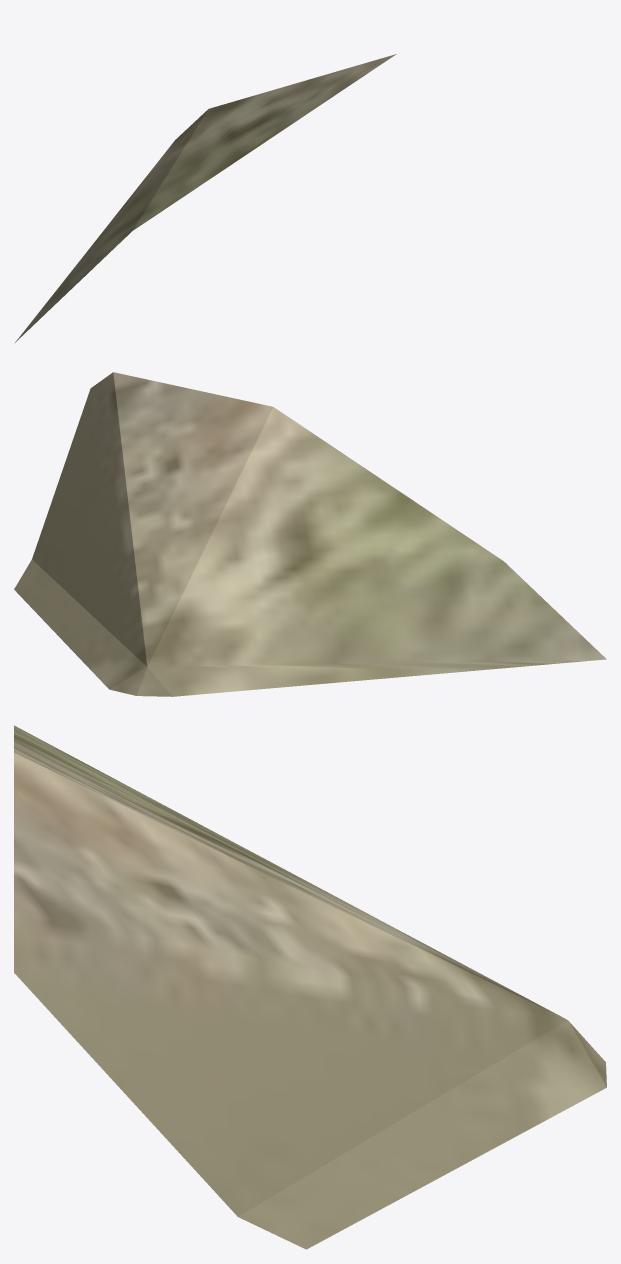
3 views of the same model, one above another, from view 1: azimuth 30°, elevation 25°; view 2: azimuth 150°, elevation 25°; view 3: azimuth 270°, elevation 25° (orthographic). The views are drawn at different scales.
Size of the model in its own units: 1.47 by 0.4656 by 0.7656.
Materials: 1 (1 with a texture image).
